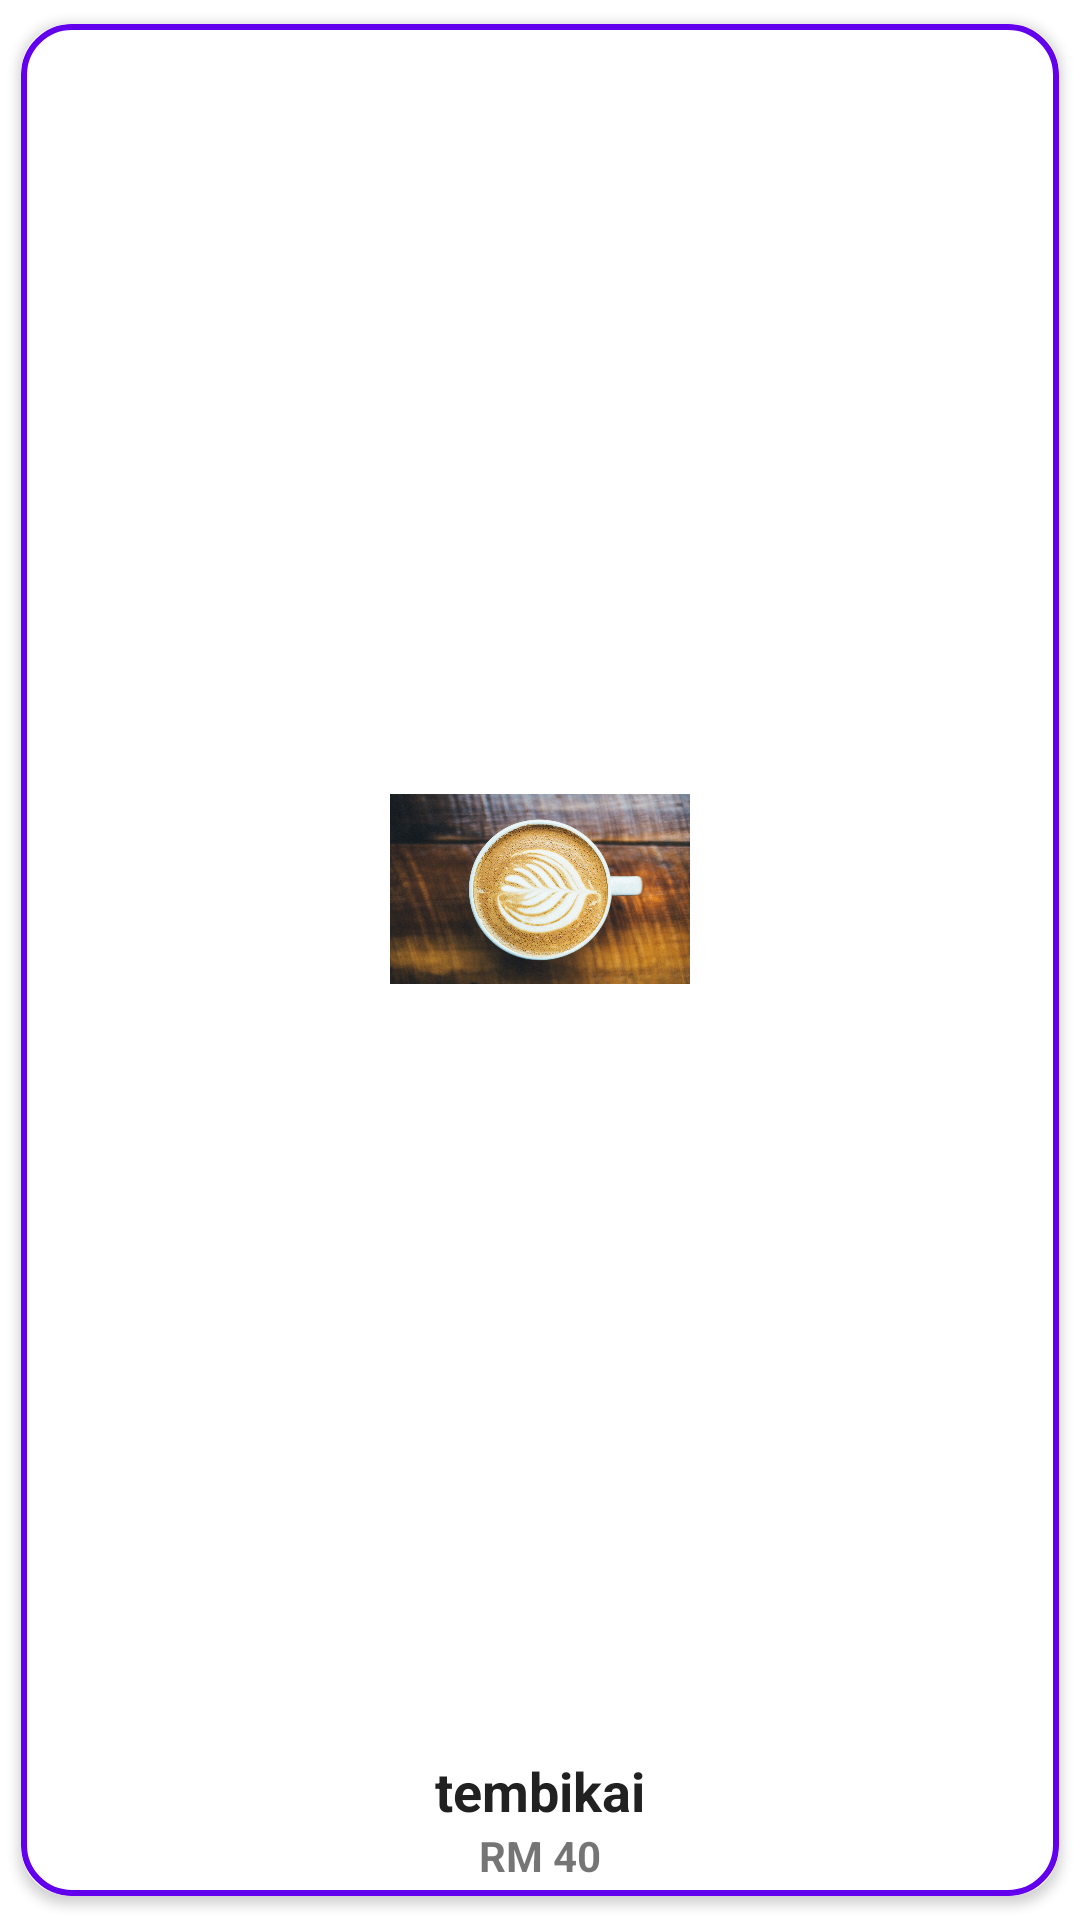

Screen size 1080px x 1920px. Icon name, then its box in pixels as (x1, y1, x2, y2):
latte: (390, 794, 690, 984)
